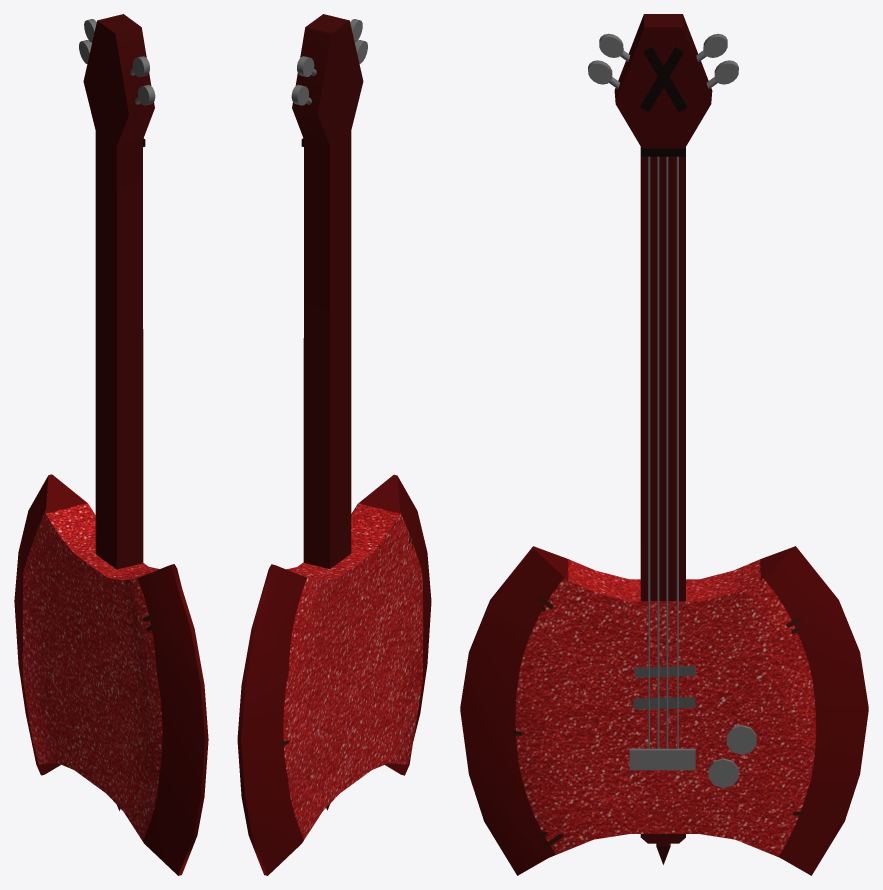
File: MarcelineBass.obj
The picture shows the model from 3 angles, left to right: view 1: azimuth 30°, elevation 25°; view 2: azimuth 150°, elevation 25°; view 3: azimuth 270°, elevation 25°; orthographic projection. The views are drawn at different scales.
Parts seen in each view (by area): view 1: pCube2, pCube1, pCylinder30; view 2: pCube2, pCube1, pCylinder30; view 3: pCube2, pCube1, pCylinder12, pCylinder11, pCylinder10, pCylinder9, pCube5, pCylinder30.
Boxes of the visible parts, x1,y1,x2,y2 form: pCube2: (14, 474, 208, 875); pCube1: (83, 14, 154, 810); pCylinder30: (79, 19, 96, 63); pCube2: (237, 474, 431, 875); pCube1: (292, 14, 363, 810); pCylinder30: (291, 56, 316, 105); pCube2: (460, 546, 868, 875); pCube1: (614, 14, 712, 864); pCylinder12: (666, 156, 668, 748); pCylinder11: (657, 156, 659, 748); pCylinder10: (676, 156, 678, 748); pCylinder9: (648, 156, 650, 748); pCube5: (629, 748, 695, 770); pCylinder30: (696, 33, 738, 88).
Size of the model in its own units: 0.5132 by 8.57 by 3.7.
8 materials, 8 textured.
